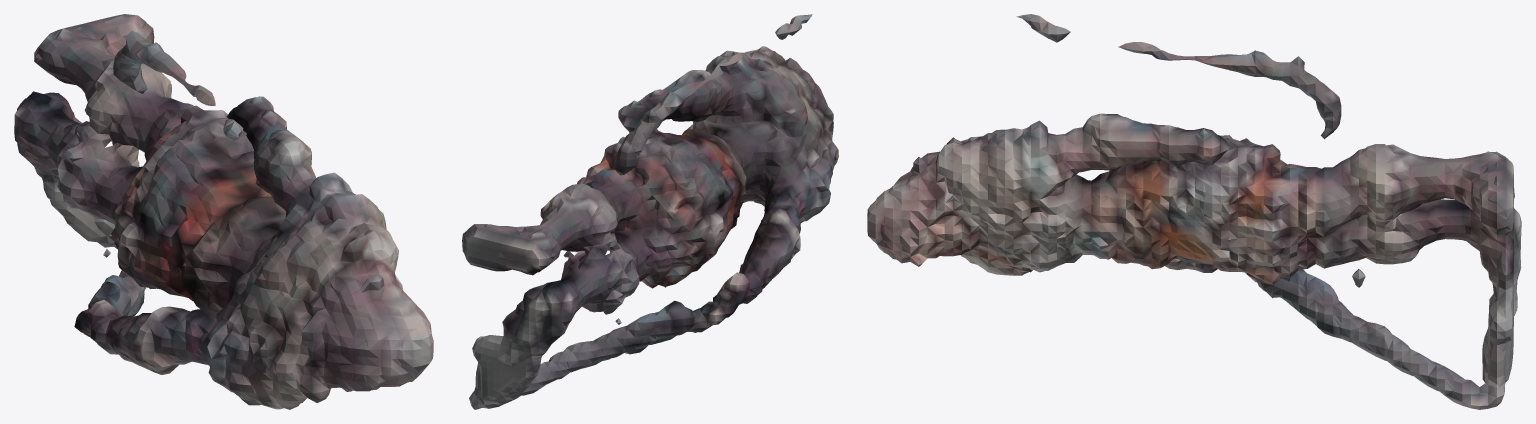
The model's file is prehist_warrior_f_0.glb.
3 views of the same model, side by side, from view 1: azimuth 30°, elevation 25°; view 2: azimuth 150°, elevation 25°; view 3: azimuth 270°, elevation 25° (orthographic). The views are drawn at different scales.
Visible parts, largest first — view 1: world; view 2: world; view 3: world.
Boxes of the visible parts, x1,y1,x2,y2 form: world: (14,14,433,409); world: (462,14,838,409); world: (867,14,1521,409).
Size of the model in its own units: 0.3683 by 0.5693 by 1.04.
